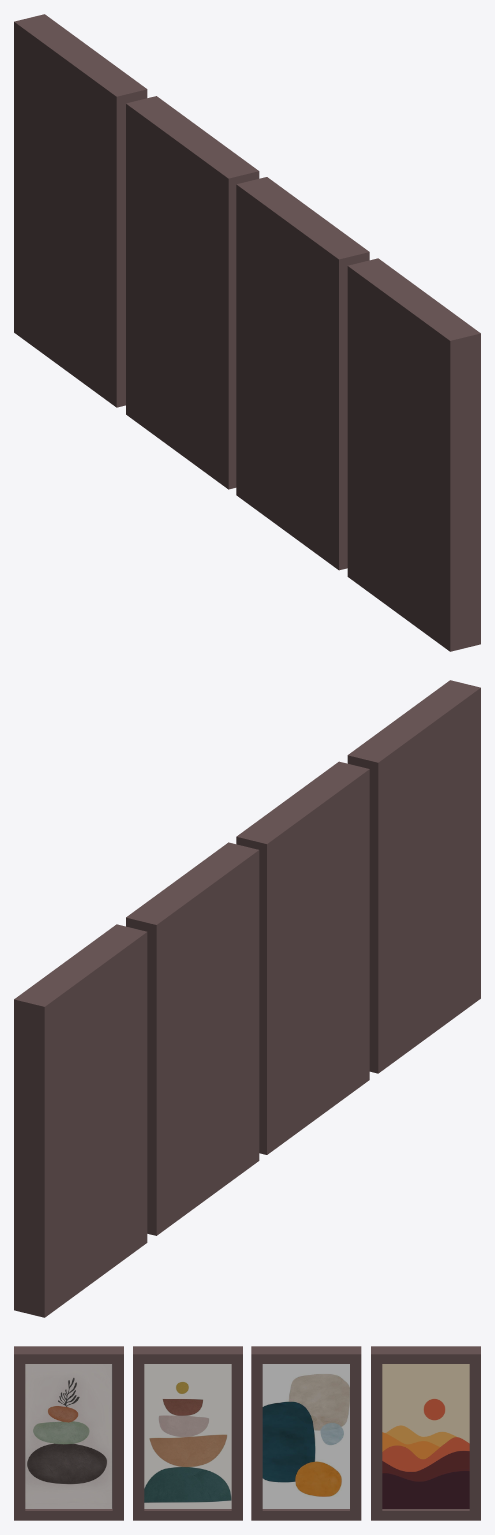
File: pictures1.fbx
3 renders of one model, top to bottom at view 1: azimuth 30°, elevation 25°; view 2: azimuth 150°, elevation 25°; view 3: azimuth 270°, elevation 25°, orthographic. The views are drawn at different scales.
Parts seen in each view (by area): view 1: pictures_05, pictures_03, pictures_04, pictures_02; view 2: pictures_03, pictures_02, pictures_05, pictures_04; view 3: pictures_02, pictures_03, pictures_04, pictures_05.
Part boxes in pixels (left/top/right/bottom): pictures_05: left=347, top=258, right=480, bottom=651; pictures_03: left=14, top=14, right=147, bottom=407; pictures_04: left=236, top=177, right=369, bottom=570; pictures_02: left=126, top=96, right=259, bottom=489; pictures_03: left=14, top=924, right=147, bottom=1317; pictures_02: left=126, top=842, right=259, bottom=1235; pictures_05: left=347, top=680, right=480, bottom=1073; pictures_04: left=236, top=761, right=369, bottom=1154; pictures_02: left=251, top=1346, right=361, bottom=1520; pictures_03: left=371, top=1346, right=480, bottom=1520; pictures_04: left=133, top=1346, right=242, bottom=1520; pictures_05: left=14, top=1346, right=123, bottom=1520.
Bounding box in the file's own units: 0.3925 × 3.79 × 9.63.
Materials: 1 (1 with a texture image).
